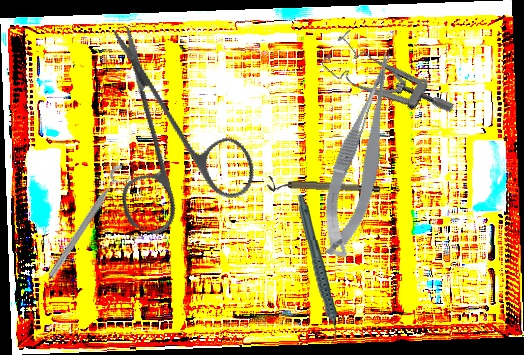Fixation Ring: (44, 162, 135, 285), (266, 176, 381, 199)
Handpiece: (295, 193, 339, 345)
Iris Scissors: (48, 22, 289, 262)
Micro Scissor: (304, 48, 421, 262)
Speculum: (317, 18, 457, 149)
